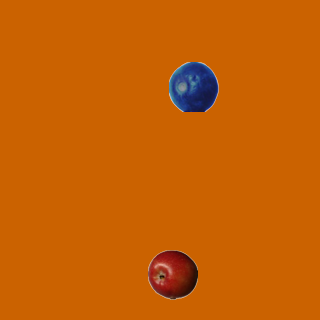Apple Braeburn: (147, 249, 197, 299)
Huckleberry: (168, 61, 218, 111)
